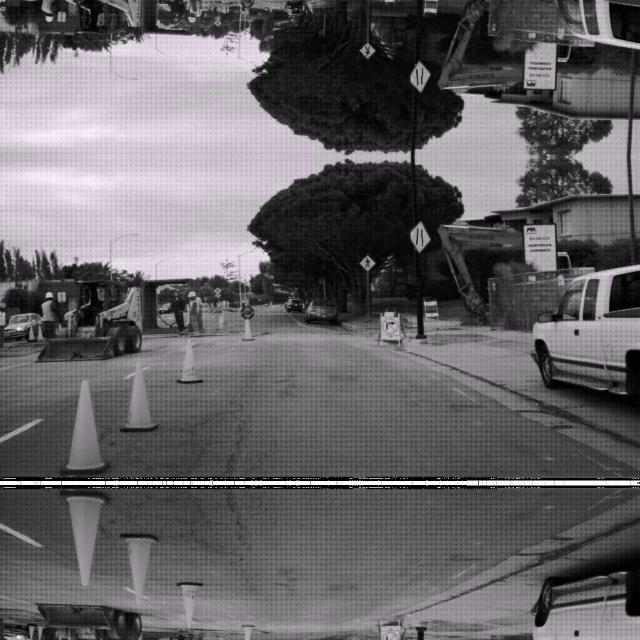pedestrianCrossing: (359, 253, 375, 270), (359, 42, 375, 58)
